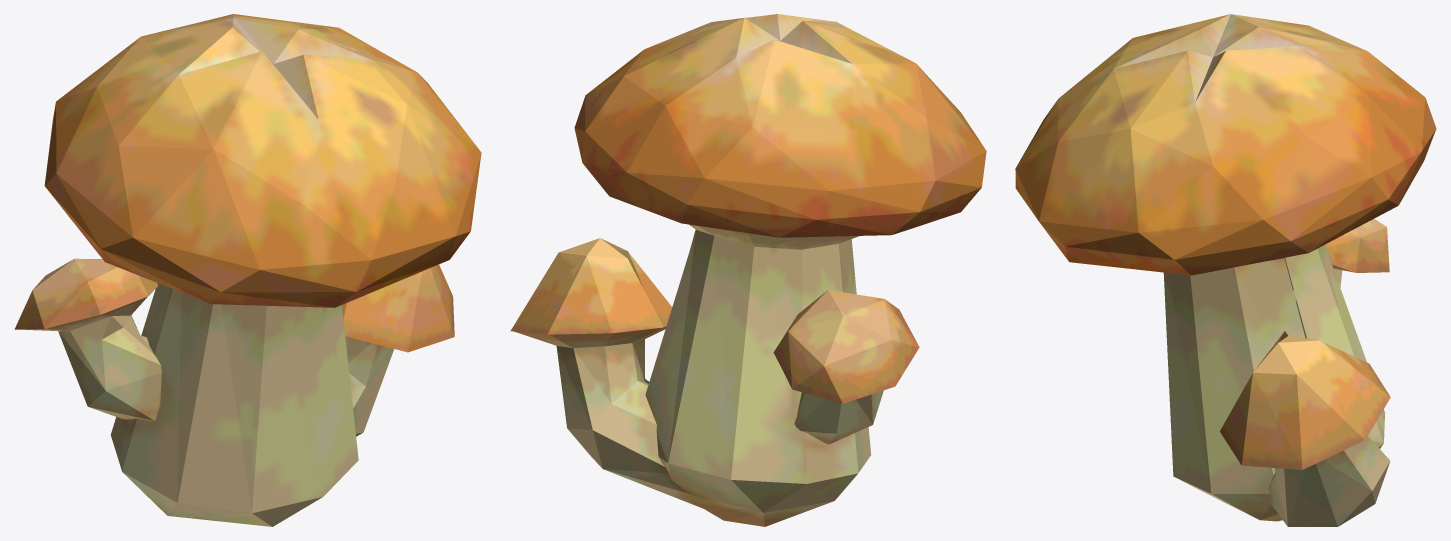
File: gi-Mushroom01.glb
The picture shows the model from 3 angles, left to right: view 1: azimuth 30°, elevation 25°; view 2: azimuth 150°, elevation 25°; view 3: azimuth 270°, elevation 25°; orthographic projection. The views are drawn at different scales.
Parts seen in each view (by area): view 1: gi-Mushroom01; view 2: gi-Mushroom01; view 3: gi-Mushroom01.
Boxes of the visible parts, x1,y1,x2,y2 form: gi-Mushroom01: (14, 14, 481, 526); gi-Mushroom01: (510, 14, 986, 526); gi-Mushroom01: (1015, 14, 1436, 526).
Size of the model in its own units: 0.4302 by 0.4945 by 0.3914.
1 material, 1 textured.
